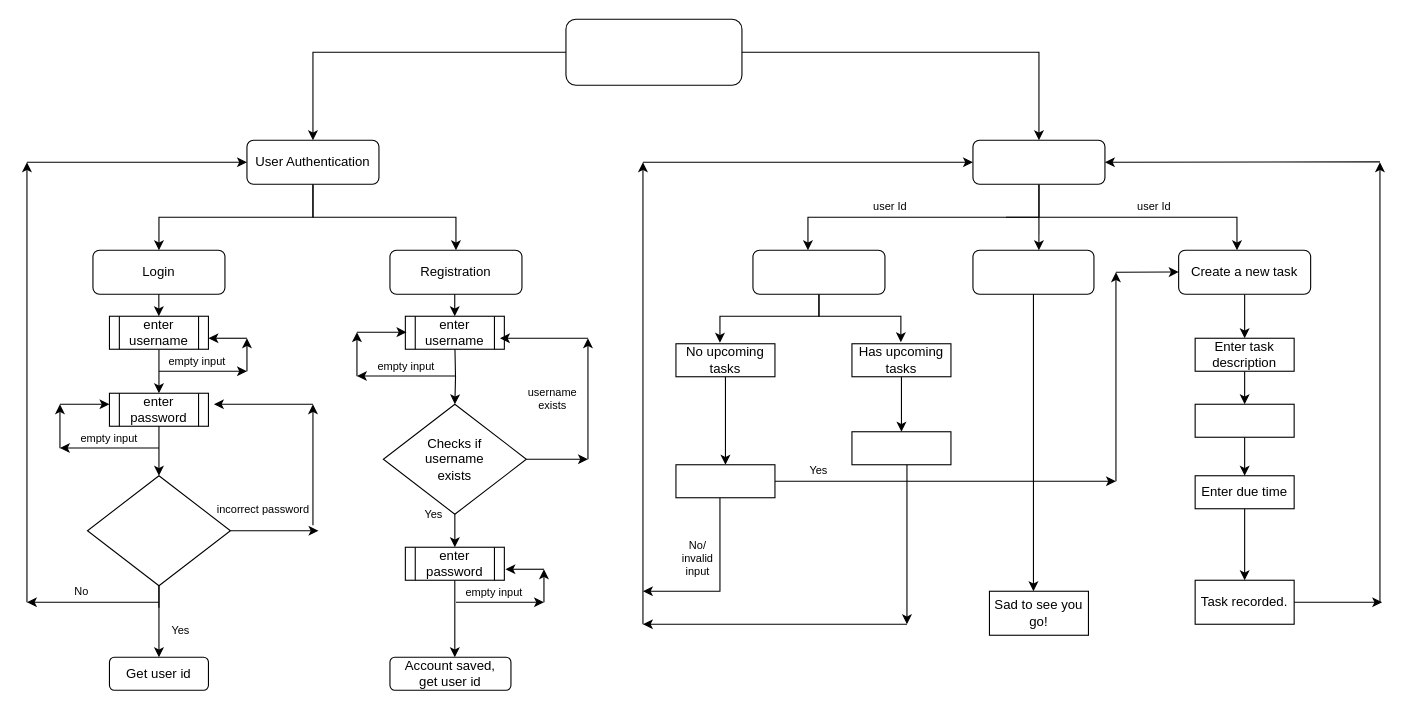
Some shapes in this 1410 by 710 pixel diagram are drawn without their labels. The shapes that lost their labels are listed below. From the top down, each one's centre as x and y in pixels, then its label:
At point 653,51: "Don't Forget App".
At point 1038,161: "User Menu".
At point 818,271: "See your tasks".
At point 1033,271: "Exit".
At point 1244,420: "Enter due date".
At point 901,448: "tasks printed to console".
At point 725,481: "Would you like to create one?".
At point 158,530: "Checks if account exists".
